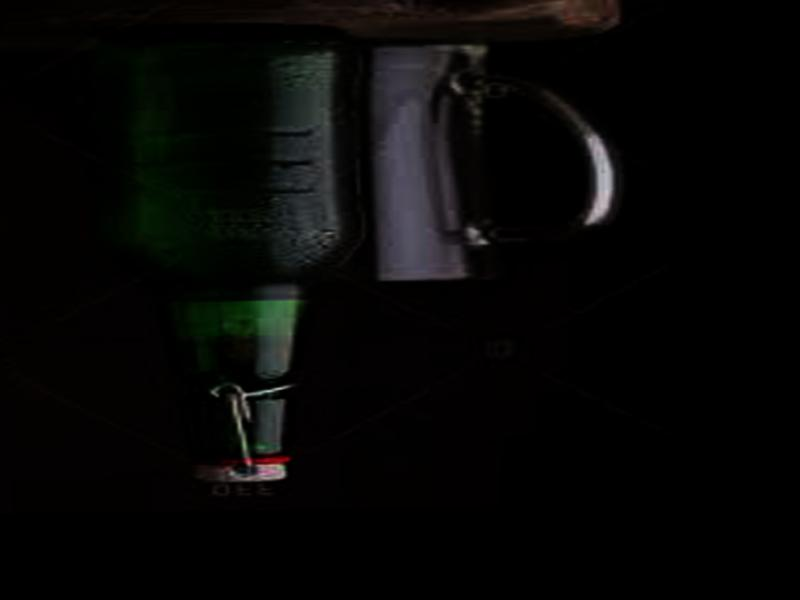Beer: (100, 23, 361, 483)
